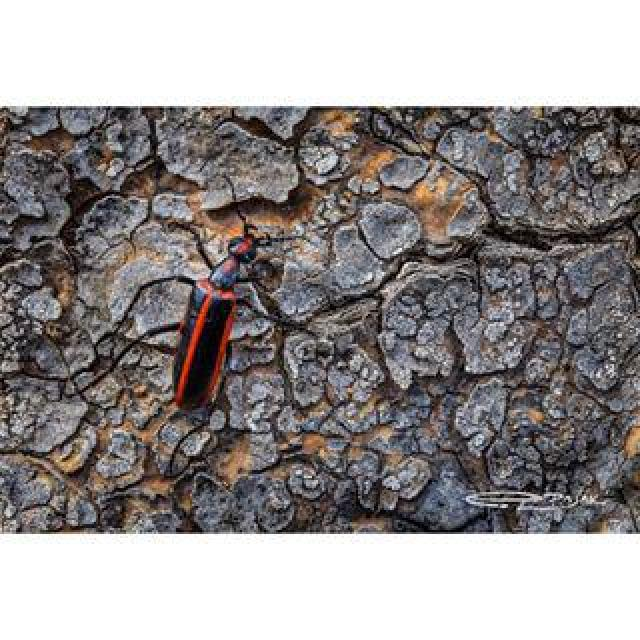BlisterBeetle-Adult-: (145, 165, 302, 414)
